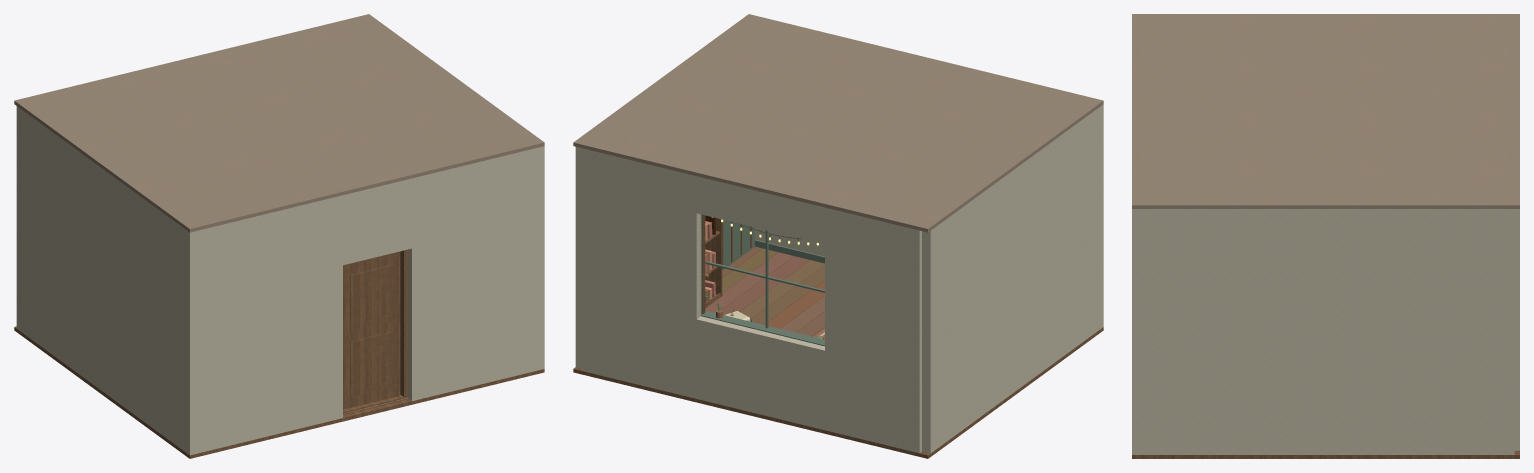
Rendered from woodland.glb.
3 renders of one model, left to right at view 1: azimuth 30°, elevation 25°; view 2: azimuth 150°, elevation 25°; view 3: azimuth 270°, elevation 25°, orthographic. The views are drawn at different scales.
Visible parts, largest first — view 1: Room_Ceiling, Room_Wall_L, Room_Wall_F_L, Room_Wall_F_R, Room_Wall_F_Top, Door_Leaf, Room_Floor, Door_Panel_L, Door_Panel_U, Door_Jamb_R; view 2: Room_Ceiling, Room_Wall_L, Room_Wall_B_R, Room_Wall_B_L, Room_Wall_B_Bot, Room_Wall_B_Top, Room_Floor, Room_Wall_R, Woodland_Static_oak_plank_18, Woodland_Static_oak_plank_19, Room_Wall_F_L, Woodland_Static_oak_plank_17 (+9 smaller); view 3: Room_Wall_R, Room_Ceiling, Room_Wall_F_R, Room_Floor, Room_Wall_B_R.
Boxes of the visible parts, x1=… form: Room_Ceiling: x1=14, y1=14, x2=544, y2=232; Room_Wall_L: x1=16, y1=106, x2=187, y2=452; Room_Wall_F_L: x1=185, y1=195, x2=342, y2=455; Room_Wall_F_R: x1=408, y1=146, x2=544, y2=400; Room_Wall_F_Top: x1=343, y1=178, x2=411, y2=265; Door_Leaf: x1=343, y1=252, x2=400, y2=409; Room_Floor: x1=14, y1=326, x2=544, y2=458; Door_Panel_L: x1=350, y1=331, x2=392, y2=396; Door_Panel_U: x1=350, y1=265, x2=392, y2=330; Door_Jamb_R: x1=400, y1=250, x2=407, y2=398; Room_Ceiling: x1=573, y1=14, x2=1103, y2=232; Room_Wall_L: x1=922, y1=108, x2=1098, y2=453; Room_Wall_B_R: x1=581, y1=148, x2=701, y2=398; Room_Wall_B_L: x1=825, y1=207, x2=921, y2=453; Room_Wall_B_Bot: x1=696, y1=316, x2=824, y2=430; Room_Wall_B_Top: x1=696, y1=176, x2=824, y2=244; Room_Floor: x1=573, y1=327, x2=1103, y2=458; Room_Wall_R: x1=575, y1=147, x2=581, y2=368; Woodland_Static_oak_plank_18: x1=721, y1=256, x2=809, y2=314; Woodland_Static_oak_plank_19: x1=705, y1=252, x2=793, y2=312; Room_Wall_F_L: x1=1099, y1=104, x2=1103, y2=329; Woodland_Static_oak_plank_17: x1=740, y1=260, x2=824, y2=318; Room_Wall_R: x1=1143, y1=209, x2=1514, y2=454; Room_Ceiling: x1=1132, y1=14, x2=1519, y2=208; Room_Wall_F_R: x1=1132, y1=209, x2=1142, y2=454; Room_Floor: x1=1132, y1=450, x2=1519, y2=458; Room_Wall_B_R: x1=1514, y1=209, x2=1519, y2=450.
Bounding box in the file's own units: 5.25 × 3.25 × 4.5.
Materials: 74 (41 with a texture image).
